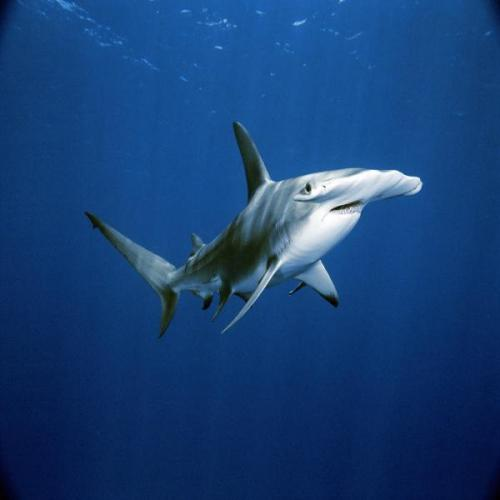shark-endangered: (84, 116, 424, 342)
